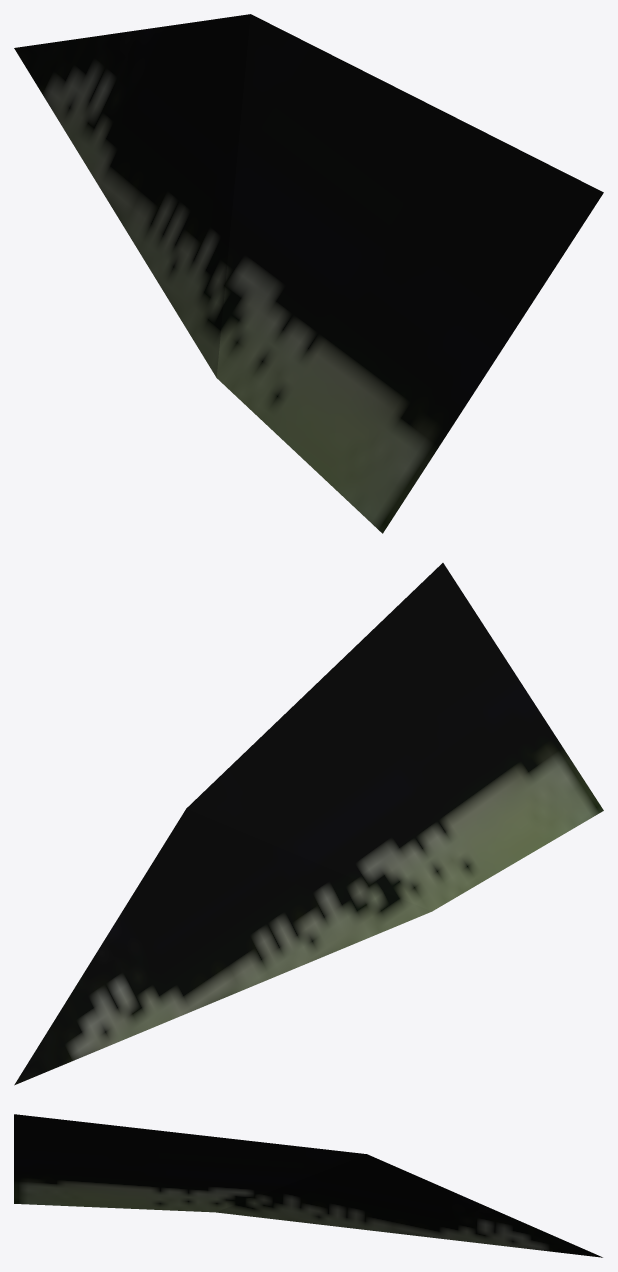
3 renders of one model, top to bottom at view 1: azimuth 30°, elevation 25°; view 2: azimuth 150°, elevation 25°; view 3: azimuth 270°, elevation 25°, orthographic. The views are drawn at different scales.
Size of the model in its own units: 0.3047 by 0.3782 by 1.41.
Materials: 1 (1 with a texture image).
